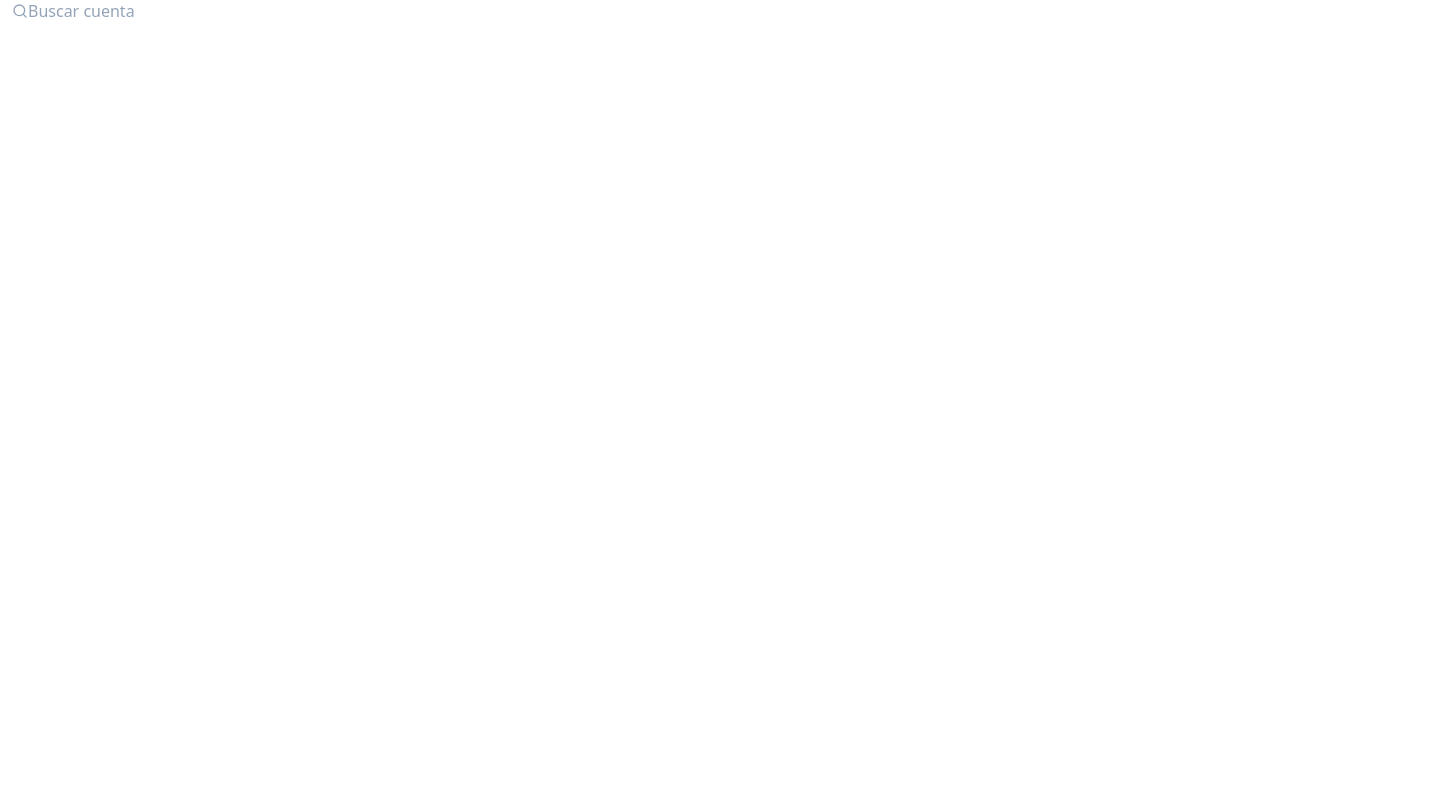
Test: CuentaContableCombobox › pagina la búsqueda remota sin duplicar las cuentas ya cargadas
Type "servicios" into the dropdown at {"x": 720, "y": 11}, box [0,0,1439,22]
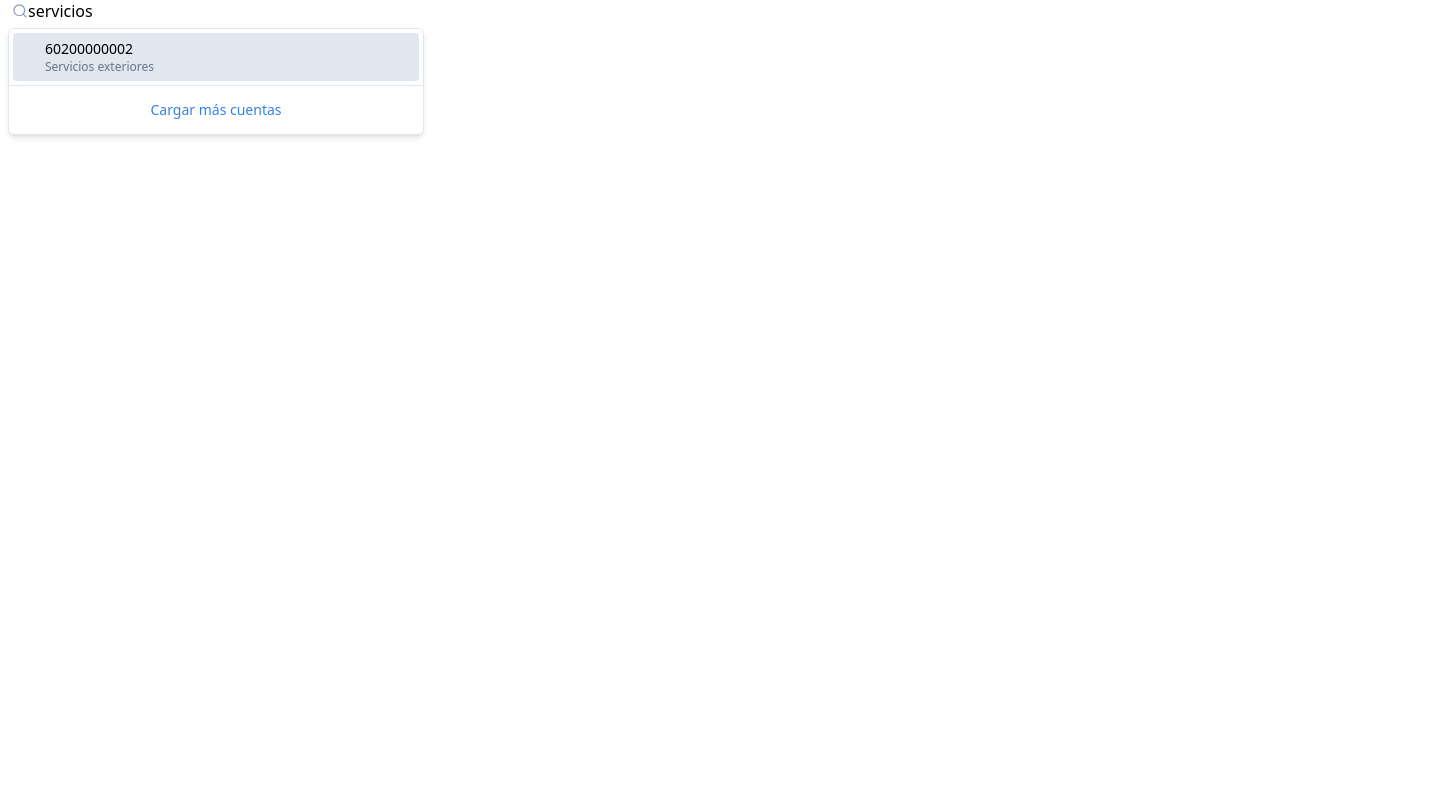
Click the button "Cargar más cuentas" at {"x": 216, "y": 110}, box [17,94,415,126]
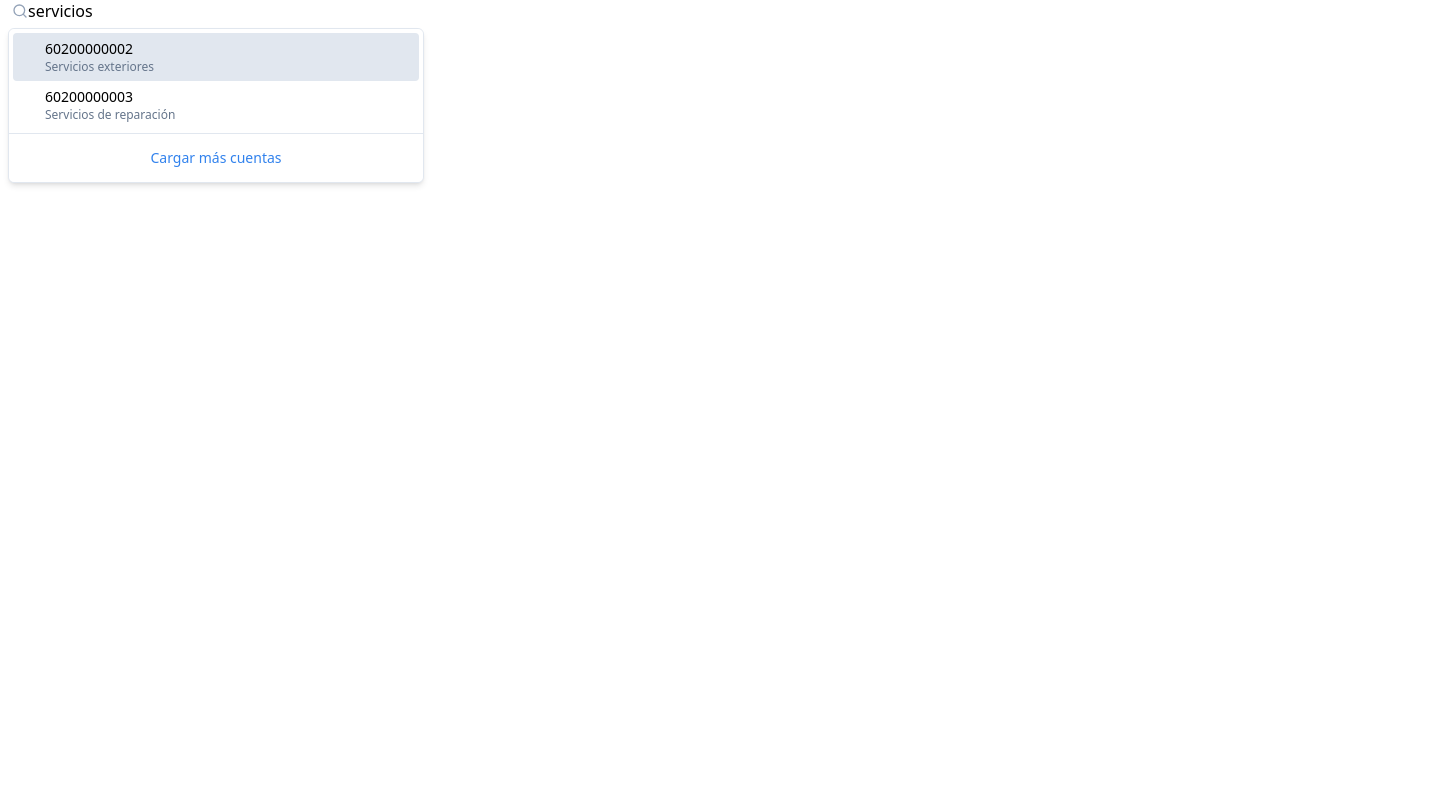
Expected: the text "Servicios de reparación" is shown, [45,107,175,123]
Expected: the text "Servicios exteriores" is shown once, [45,59,154,75]
